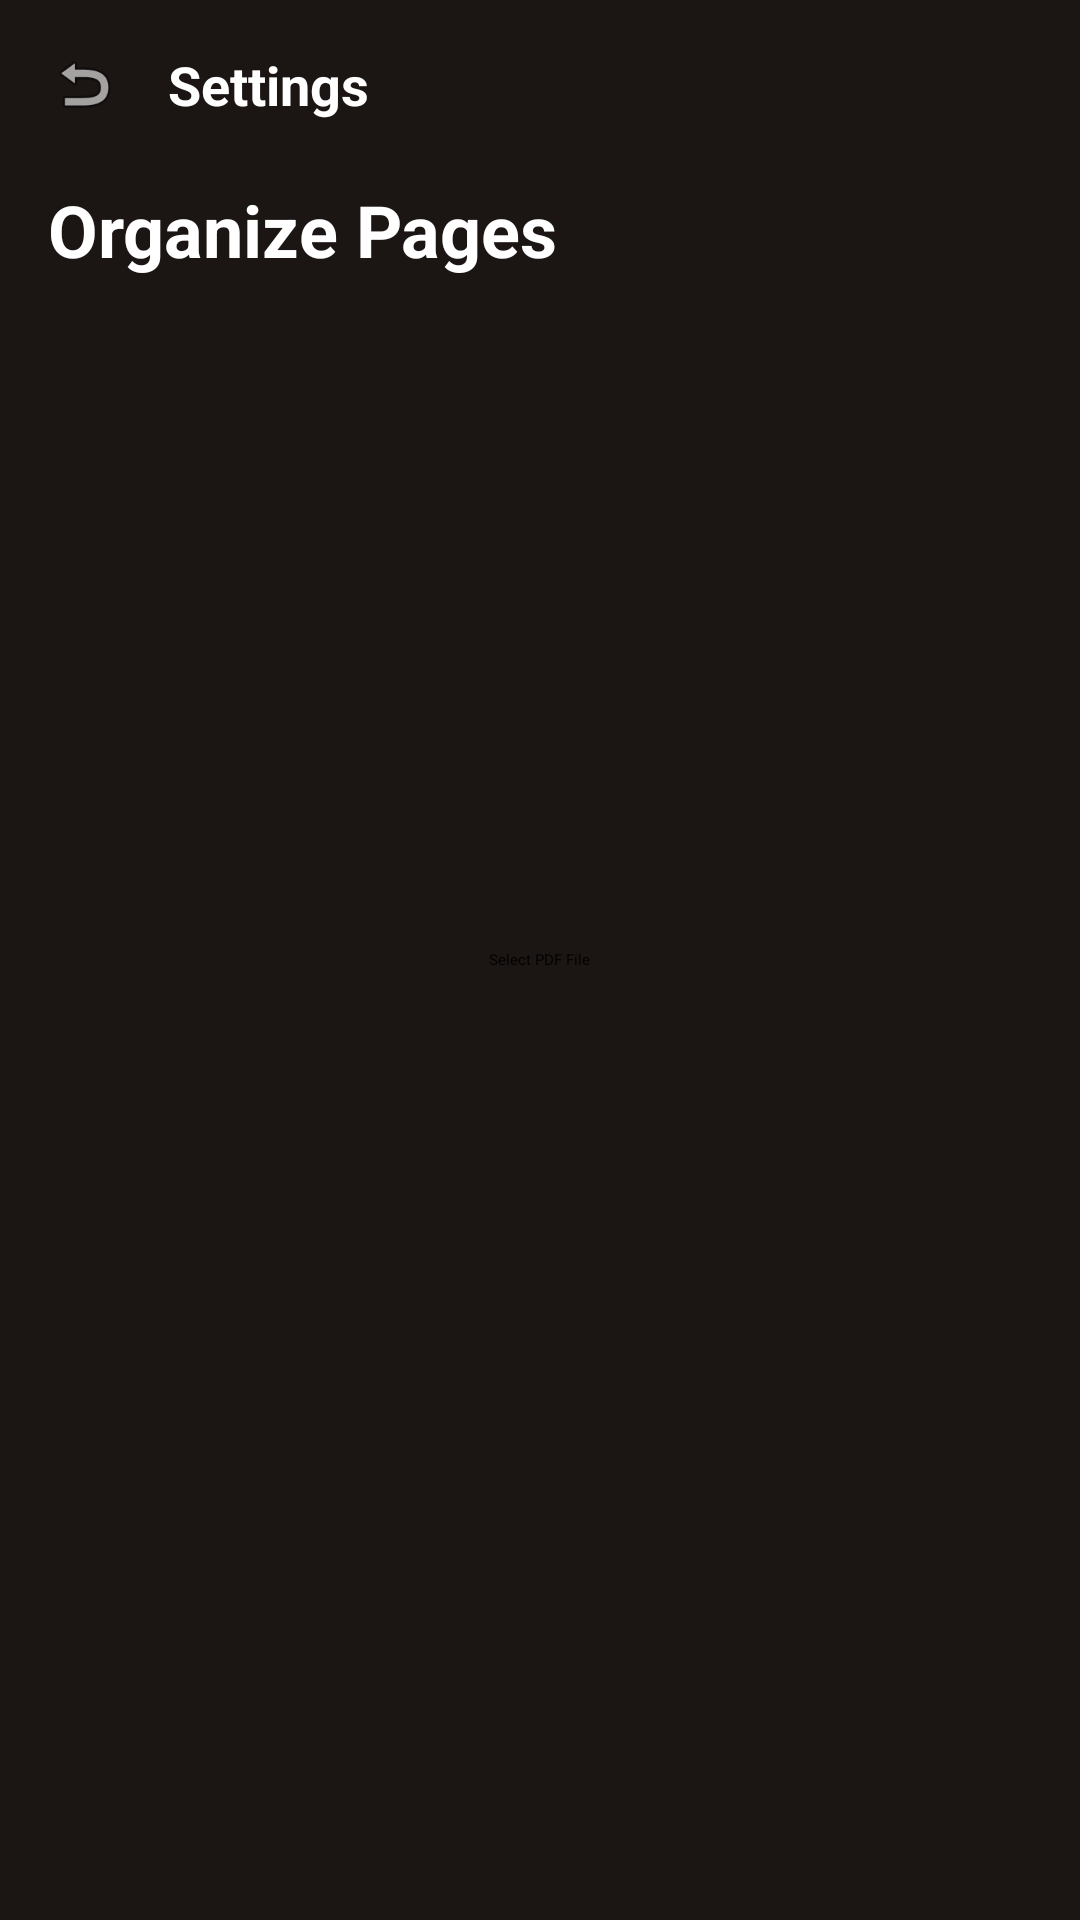

Where to tap for icons on this 1080 x 1920 app screen, as (x=x, y=y):
revert: (x=85, y=84)
